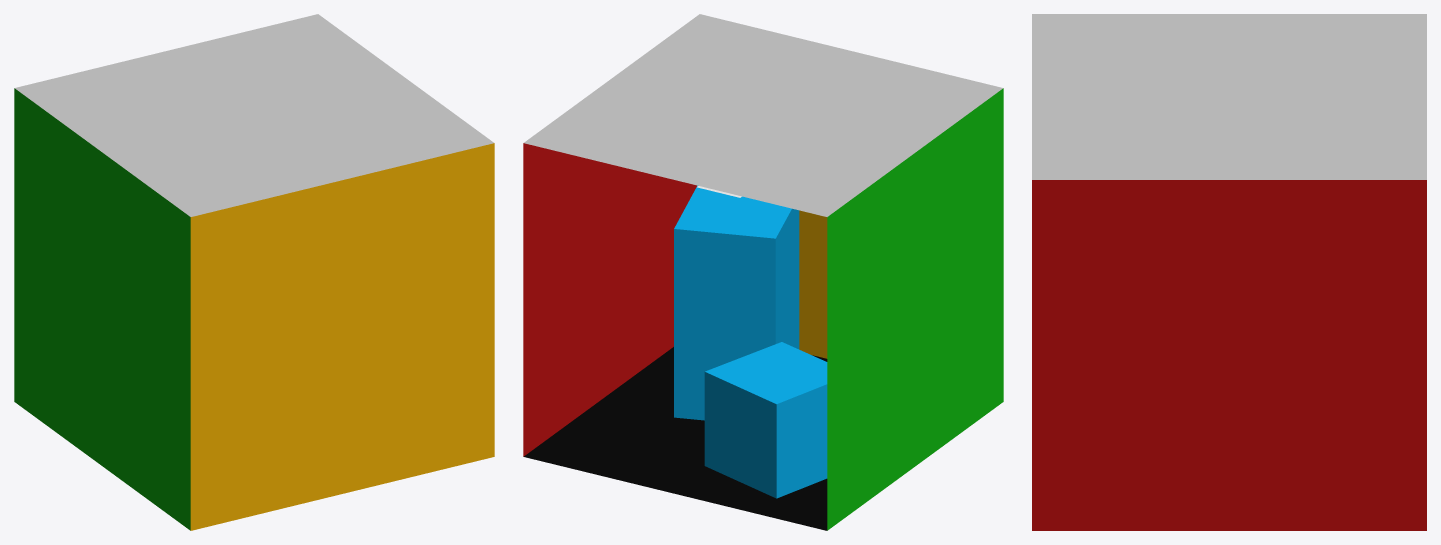
Rendered from boxlight.obj.
The picture shows the model from 3 angles, left to right: view 1: azimuth 30°, elevation 25°; view 2: azimuth 150°, elevation 25°; view 3: azimuth 270°, elevation 25°; orthographic projection. The views are drawn at different scales.
Visible parts, largest first — view 1: object 2; view 2: object 2; view 3: object 2.
Part boxes in pixels (x1,y1,x2,y2): object 2: (14, 14, 494, 530); object 2: (523, 14, 1003, 530); object 2: (1032, 14, 1426, 530).
Bounding box in the file's own units: 5.56 × 5.49 × 5.59.
